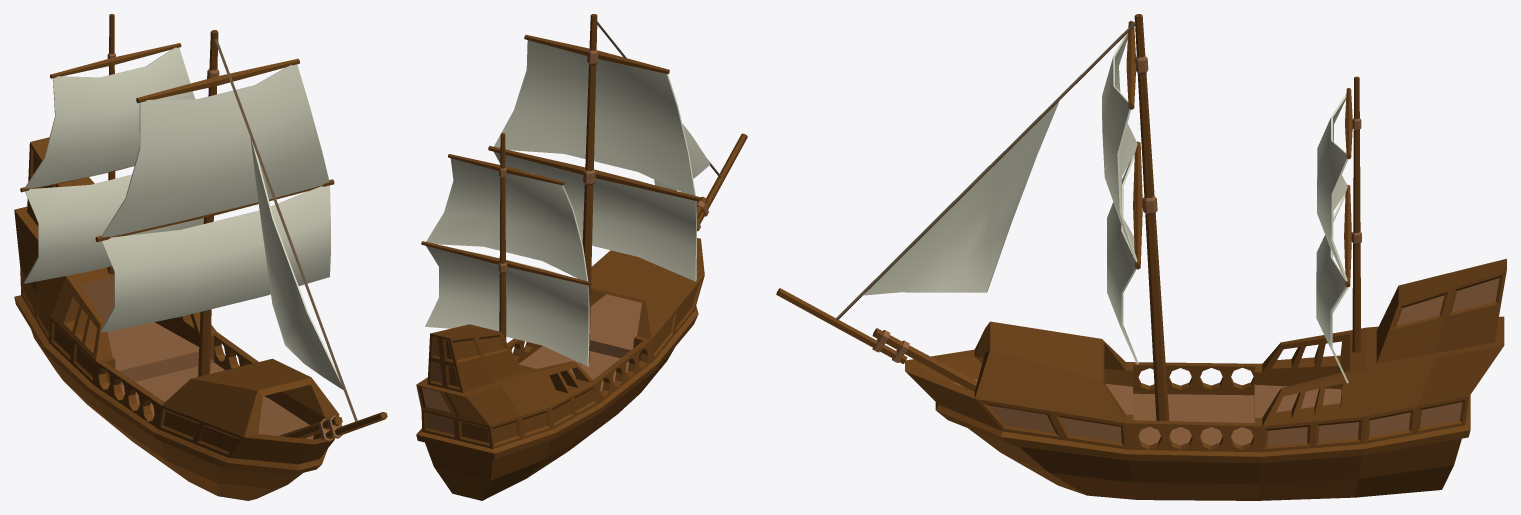
File: Galleon.fbx
The picture shows the model from 3 angles, left to right: view 1: azimuth 30°, elevation 25°; view 2: azimuth 150°, elevation 25°; view 3: azimuth 270°, elevation 25°; orthographic projection. The views are drawn at different scales.
Visible parts, largest first — view 1: Galleon; view 2: Galleon; view 3: Galleon.
Part boxes in pixels (box(x1,y1,x2,y2)): Galleon: box(14, 14, 387, 500); Galleon: box(416, 14, 747, 500); Galleon: box(776, 14, 1506, 500).
Size of the model in its own units: 465 by 834 by 1171.
